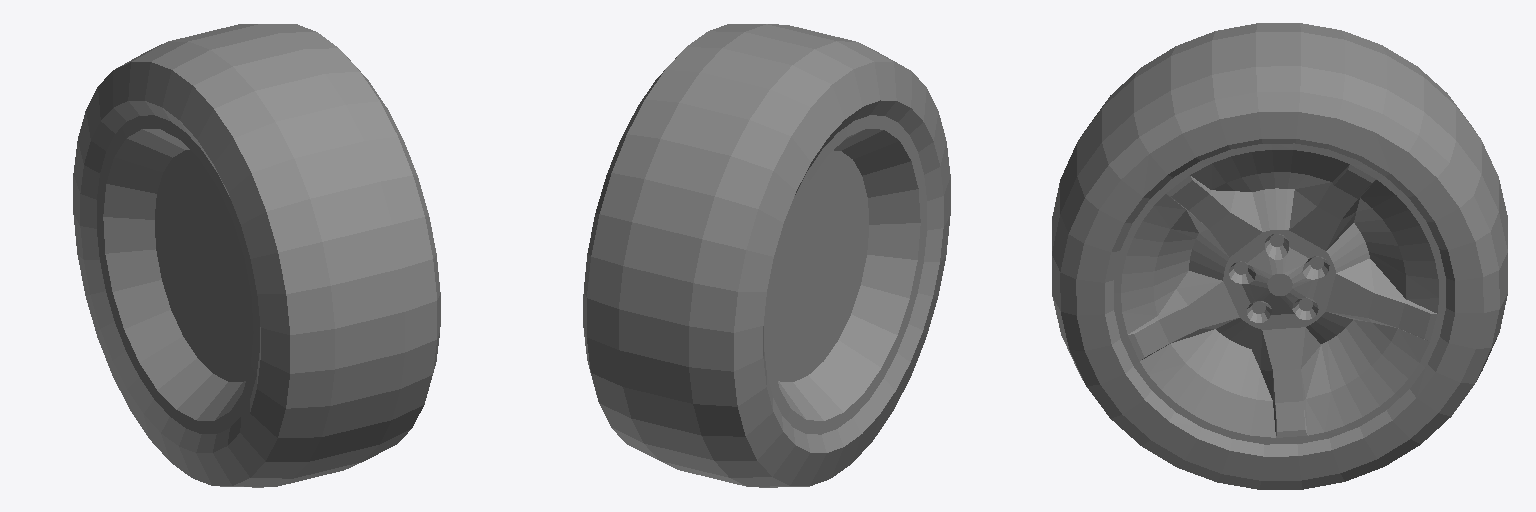
File: Wheel2.obj
3 views of the same model, side by side, from view 1: azimuth 30°, elevation 25°; view 2: azimuth 150°, elevation 25°; view 3: azimuth 270°, elevation 25° (orthographic).
Visible parts, largest first — view 1: BTechFix; view 2: BTechFix; view 3: BTechFix.
Part boxes in pixels (bbox=[...]): BTechFix: bbox=[73, 24, 440, 487]; BTechFix: bbox=[583, 24, 950, 487]; BTechFix: bbox=[1052, 23, 1507, 489].
Bounding box in the file's own units: 35.25 × 81.44 × 81.44.